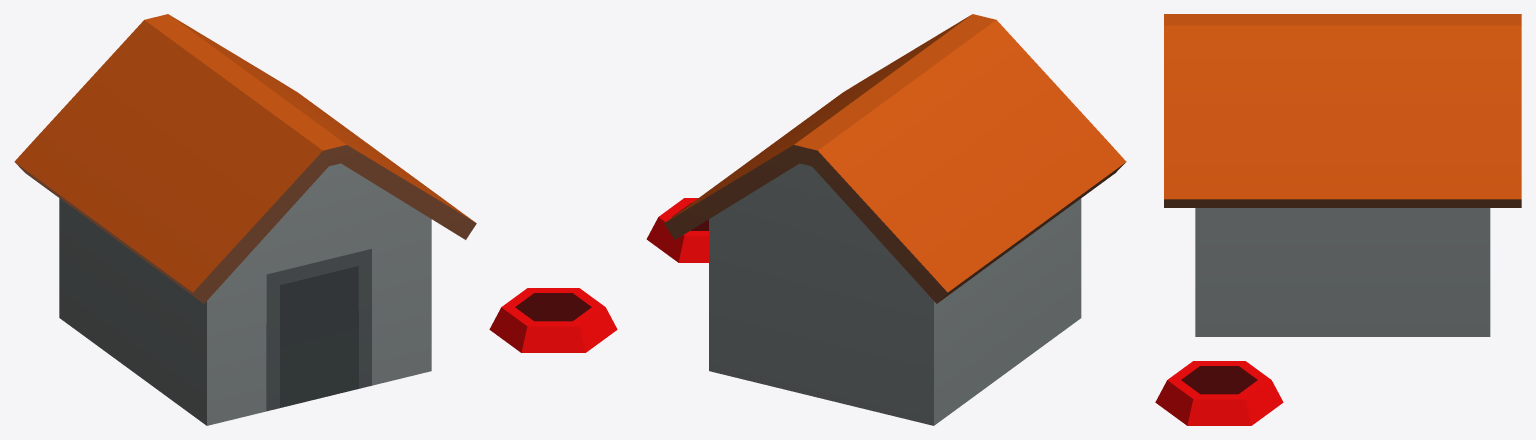
The model's file is dog house.fbx.
3 views of the same model, side by side, from view 1: azimuth 30°, elevation 25°; view 2: azimuth 150°, elevation 25°; view 3: azimuth 270°, elevation 25° (orthographic).
Visible parts, largest first — view 1: dog_house; view 2: dog_house; view 3: dog_house.
Boxes of the visible parts, bbox=[...] form: dog_house: bbox=[14, 14, 617, 425]; dog_house: bbox=[646, 14, 1126, 425]; dog_house: bbox=[1155, 14, 1521, 425].
Bounding box in the file's own units: 304 × 175 × 221.
Materials: 1 (1 with a texture image).
